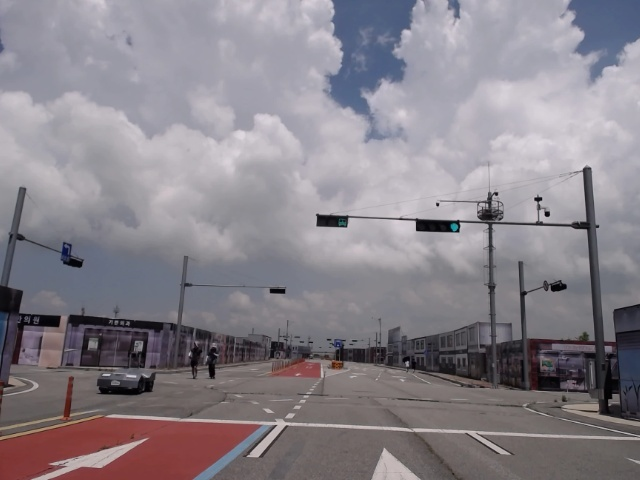straight_green_4: (416, 219, 460, 235)
